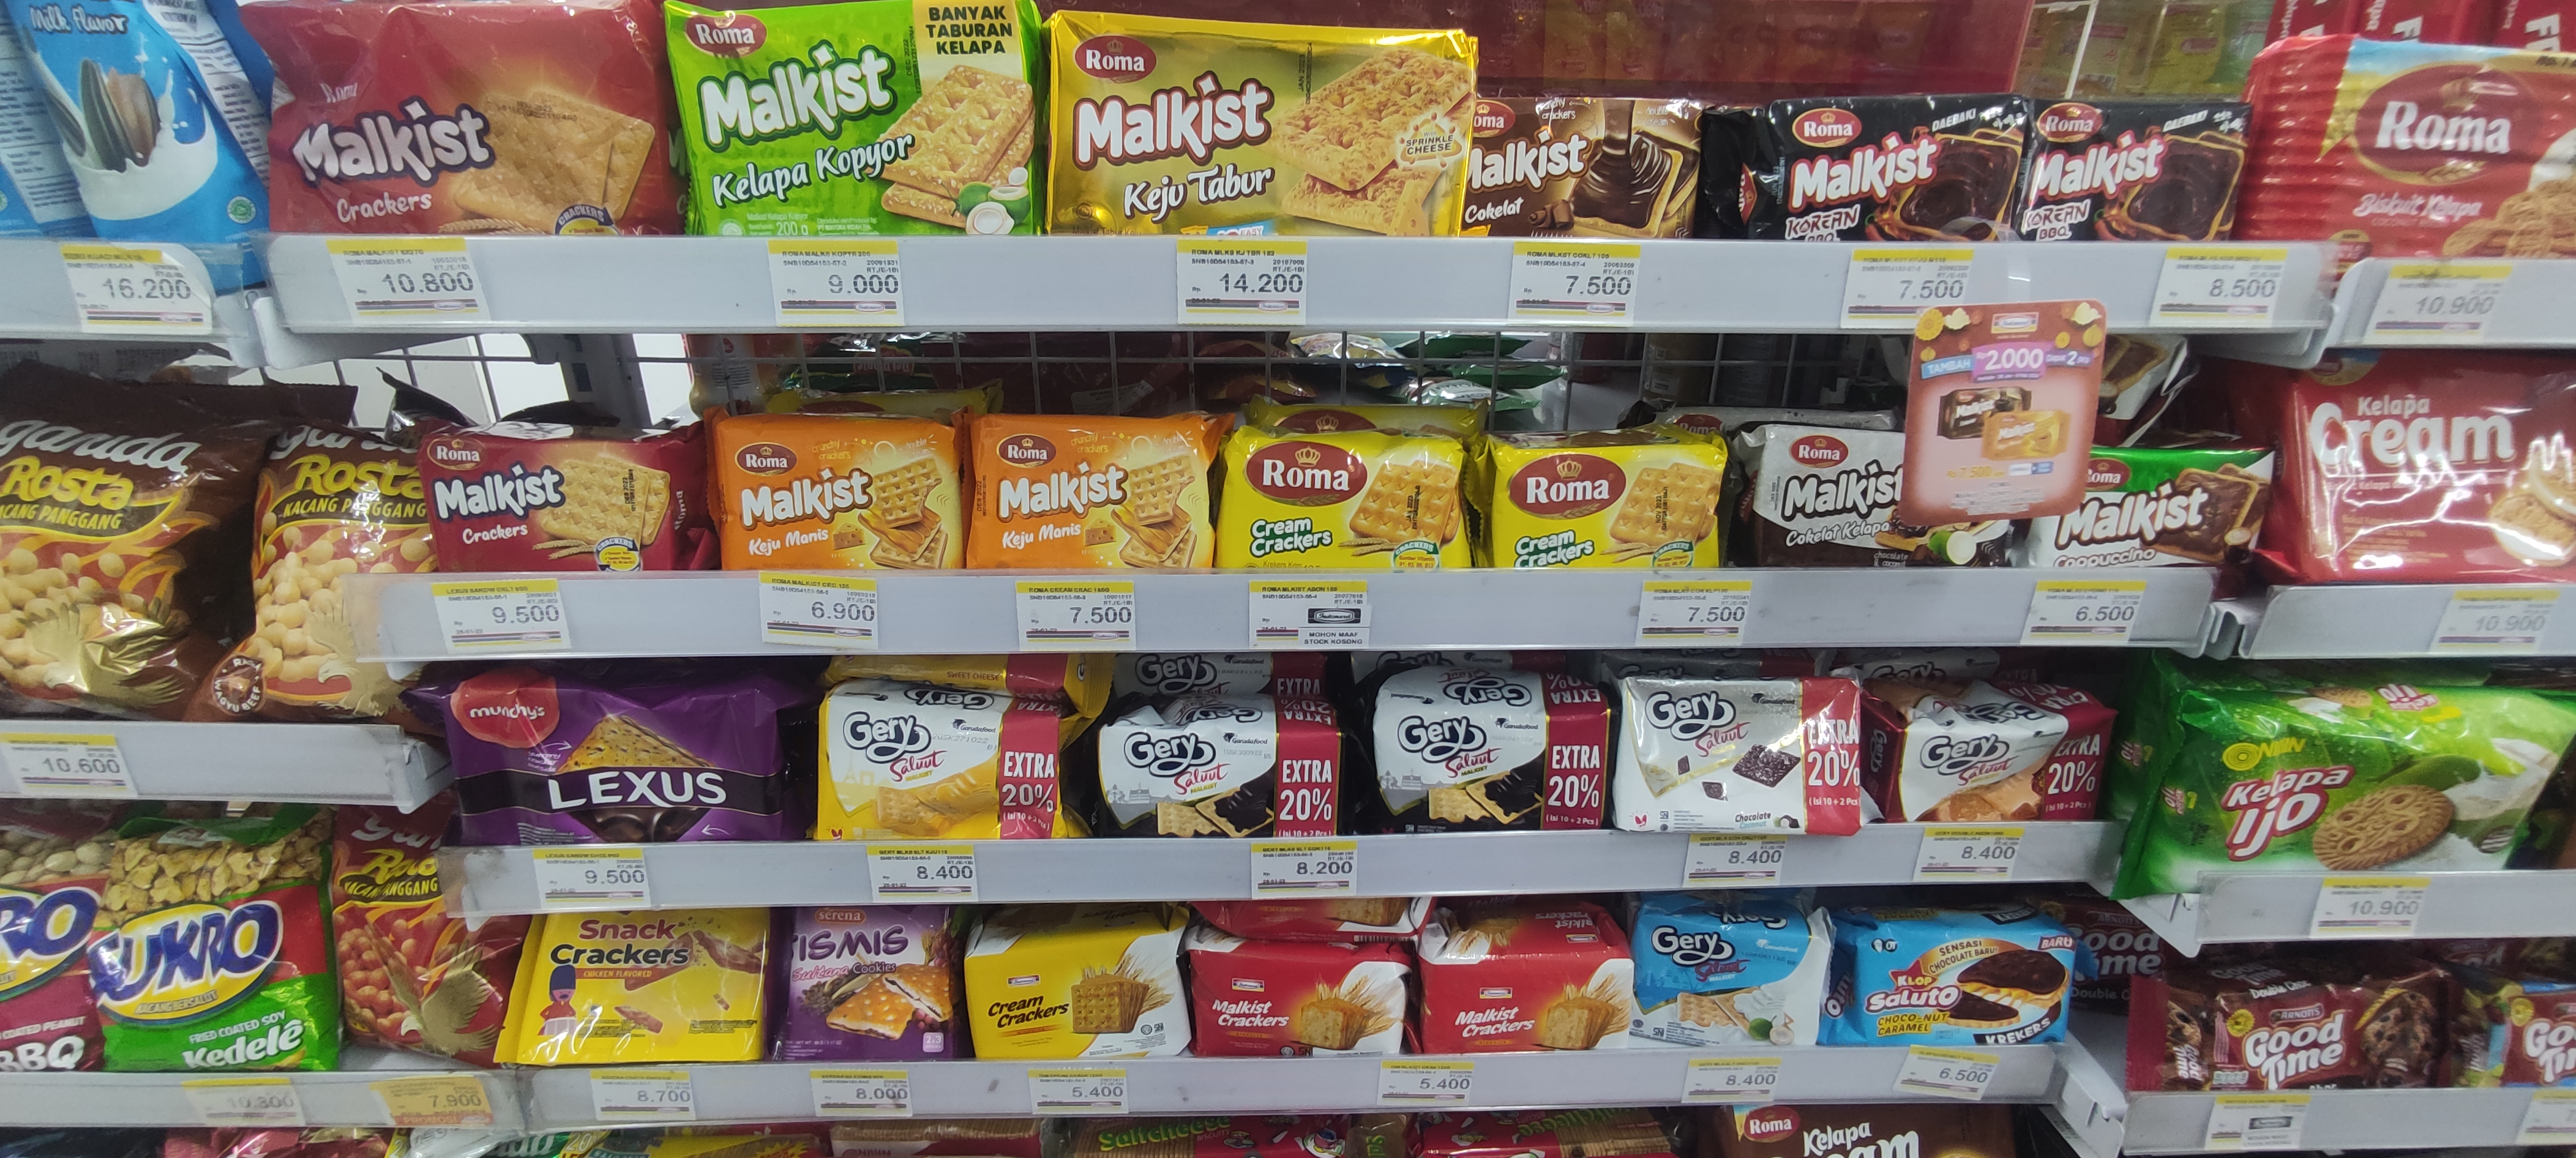90101111611100: (330, 806, 508, 1068)
90101111615100: (0, 389, 227, 721), (204, 422, 430, 726)
90101225202101: (1092, 696, 1339, 836)
90101225205101: (1368, 670, 1615, 829), (818, 687, 1071, 841)
90101225209100: (1635, 903, 1825, 1048)
90101225218101: (1620, 677, 1861, 833)
90101225226101: (1871, 680, 2108, 823)
ArnottsGoodTime: (2169, 967, 2446, 1089)
DuaKelinciSukroKacangBersalut: (102, 816, 327, 1074)
IndomaretMalkistCrackers: (1189, 949, 1408, 1056), (1423, 951, 1635, 1051)
IndomaretMalkistCreamCrackers: (966, 954, 1181, 1058)
KlopSalutoChocoNutCaramel: (1855, 926, 2072, 1043)
MunchysLexus: (432, 685, 785, 841)
NissinBiskuitKelapaIjo: (2162, 695, 2545, 872)
RomaMalkistCappucino: (2060, 445, 2267, 565)
RomaMalkistCokelat: (1475, 99, 1700, 240)
RomaMalkistCrackers: (250, 0, 674, 235), (425, 439, 678, 570)
RomaMalkistCreamCrackers: (1221, 434, 1464, 572), (1492, 437, 1728, 567)
RomaMalkistKejuManis: (971, 412, 1214, 573), (718, 416, 966, 572)
RomaMalkistKejuTabur: (1050, 16, 1465, 238)
RomaMalkistKelapaKopyor: (665, 2, 1035, 237)
RomaMalkistKoreanBBQ: (1768, 95, 2026, 243), (2032, 97, 2241, 243), (2031, 97, 2239, 243)
SerenaKismisSultanaCcookies: (784, 908, 958, 1059)
SerenaSnackCrackersChickenFlavored: (536, 915, 767, 1058)
